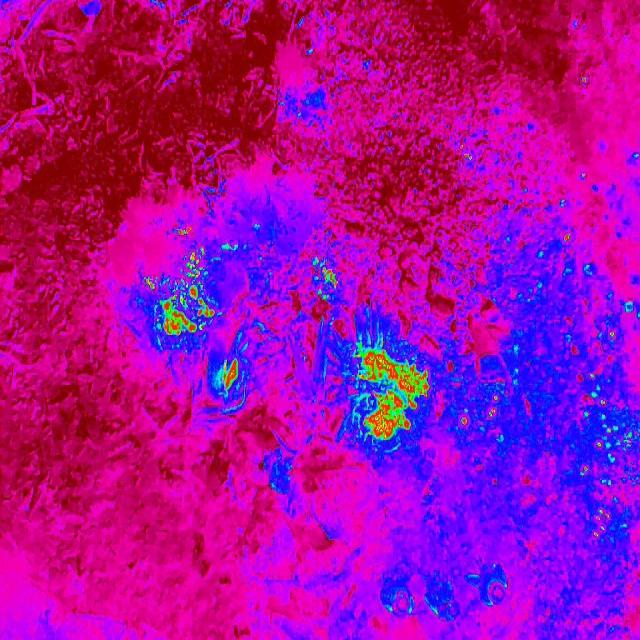fire: (570, 321, 640, 543), (344, 337, 434, 444), (146, 247, 218, 341), (452, 384, 504, 434), (312, 257, 342, 301), (217, 355, 246, 395), (455, 134, 478, 168), (557, 222, 581, 252), (576, 70, 592, 90), (173, 222, 192, 238)
